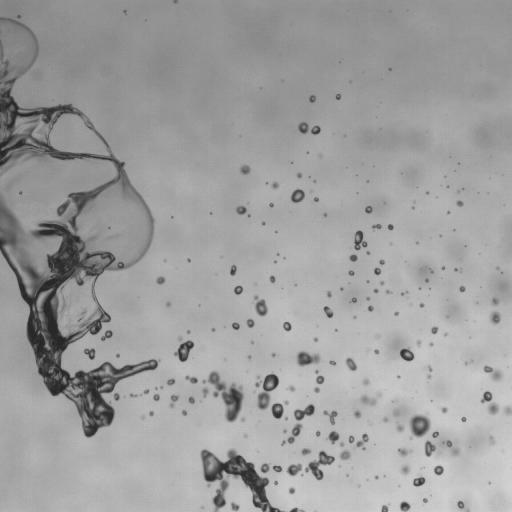droplet: (408, 412, 431, 439), (173, 336, 194, 362), (296, 350, 321, 366), (252, 294, 268, 316), (483, 365, 503, 382), (354, 230, 367, 250), (339, 441, 351, 460), (290, 188, 305, 203), (399, 346, 414, 361), (323, 409, 337, 425), (424, 440, 436, 457), (325, 430, 339, 444), (345, 357, 357, 371), (489, 310, 500, 324), (100, 330, 113, 341), (169, 394, 179, 408), (83, 348, 95, 359), (413, 475, 425, 486), (399, 464, 410, 475), (433, 464, 444, 475), (16, 98, 27, 109), (31, 98, 42, 109), (25, 155, 36, 166), (13, 157, 24, 168), (106, 166, 117, 177), (80, 181, 91, 192), (267, 189, 278, 200), (10, 205, 21, 216), (48, 212, 59, 223), (367, 212, 378, 223), (230, 274, 241, 285), (410, 291, 421, 302), (19, 303, 30, 314), (82, 332, 93, 343), (23, 344, 34, 355), (60, 348, 71, 359), (82, 360, 93, 371), (316, 360, 327, 371), (197, 369, 208, 380), (221, 375, 232, 386), (175, 377, 186, 388), (114, 380, 125, 391), (485, 380, 496, 391), (190, 383, 201, 394), (363, 385, 374, 396), (159, 388, 170, 399), (268, 390, 279, 401), (176, 397, 187, 408), (217, 402, 228, 413), (282, 405, 293, 416), (72, 414, 83, 425), (400, 437, 411, 448), (428, 454, 439, 465), (299, 455, 310, 466), (265, 469, 276, 480), (423, 469, 434, 480), (284, 474, 295, 485), (287, 474, 298, 485), (232, 475, 243, 486), (263, 485, 274, 496), (242, 486, 253, 497), (222, 490, 233, 501), (267, 495, 278, 506), (279, 500, 290, 511), (239, 164, 251, 174), (235, 205, 247, 215), (323, 306, 333, 318), (185, 374, 198, 383), (399, 501, 410, 511), (233, 285, 243, 295), (260, 463, 270, 473), (502, 405, 511, 415), (395, 422, 404, 432), (201, 387, 209, 398), (229, 264, 236, 276), (230, 502, 239, 511), (381, 502, 390, 511), (303, 193, 312, 202), (355, 248, 364, 257), (346, 260, 355, 269), (494, 304, 503, 313), (249, 310, 258, 319), (100, 321, 109, 330), (18, 323, 27, 332), (305, 346, 314, 355), (113, 359, 122, 368), (305, 362, 314, 371), (500, 367, 509, 376), (35, 374, 44, 383), (206, 382, 215, 391), (168, 384, 177, 393), (193, 390, 202, 399), (101, 392, 110, 401), (239, 398, 248, 407), (357, 402, 366, 411), (416, 407, 425, 416), (288, 417, 297, 426), (387, 419, 396, 428), (403, 425, 412, 434), (320, 428, 329, 437), (422, 431, 431, 440), (338, 432, 347, 441), (344, 442, 353, 451), (309, 452, 318, 461), (219, 453, 228, 462), (400, 455, 409, 464), (211, 479, 220, 488), (283, 321, 291, 331), (301, 447, 311, 455), (371, 224, 382, 231), (156, 276, 165, 284), (491, 297, 499, 306), (246, 318, 254, 327), (352, 410, 361, 418), (285, 384, 295, 391), (437, 406, 447, 413), (489, 435, 496, 445), (272, 465, 282, 472), (219, 505, 230, 511), (389, 505, 400, 511), (271, 181, 279, 189), (374, 267, 382, 275), (232, 322, 240, 330), (430, 326, 438, 334), (362, 378, 370, 386), (166, 378, 175, 385), (112, 392, 119, 401), (309, 94, 316, 102), (365, 205, 372, 213), (349, 254, 357, 261), (432, 430, 439, 438), (288, 486, 295, 494), (0, 175, 5, 186), (374, 333, 381, 340), (382, 416, 389, 423), (59, 98, 66, 105), (45, 101, 52, 108), (71, 101, 78, 108), (116, 154, 123, 161), (55, 158, 62, 165), (63, 158, 70, 165), (237, 159, 244, 166), (106, 160, 113, 167), (95, 179, 102, 186), (12, 184, 19, 191), (74, 185, 81, 192), (135, 185, 142, 192), (60, 195, 67, 202), (150, 209, 157, 216), (152, 221, 159, 228), (380, 221, 387, 228), (130, 263, 137, 270), (445, 264, 452, 271), (433, 265, 440, 272), (117, 268, 124, 275), (10, 276, 17, 283), (378, 285, 385, 292), (13, 287, 20, 294), (368, 291, 375, 298), (328, 304, 335, 311), (491, 304, 498, 311), (498, 313, 505, 320), (484, 316, 491, 323), (486, 320, 493, 327), (239, 321, 246, 328), (97, 329, 104, 336), (429, 333, 436, 340), (421, 339, 428, 346), (66, 342, 73, 349), (409, 345, 416, 352), (291, 355, 298, 362), (60, 362, 67, 369), (342, 364, 349, 371), (218, 375, 225, 382), (256, 386, 263, 393), (42, 387, 49, 394), (148, 388, 155, 395), (146, 391, 153, 398), (206, 391, 213, 398), (366, 391, 373, 398), (56, 392, 63, 399), (354, 392, 361, 399), (184, 402, 191, 409), (298, 403, 305, 410), (264, 406, 271, 413), (496, 408, 503, 415), (236, 410, 243, 417), (385, 410, 392, 417), (302, 414, 309, 421), (111, 415, 118, 422), (328, 424, 335, 431), (96, 426, 103, 433), (77, 428, 84, 435), (285, 430, 292, 437), (354, 434, 361, 441), (429, 437, 436, 444), (235, 448, 242, 455), (333, 456, 340, 463), (195, 457, 202, 464), (340, 458, 347, 465), (301, 460, 308, 467), (281, 463, 288, 470), (317, 463, 324, 470), (253, 465, 260, 472), (256, 470, 263, 477), (197, 471, 204, 478), (208, 502, 215, 509), (454, 267, 462, 273), (269, 275, 275, 283), (188, 396, 194, 404), (348, 435, 354, 443), (270, 352, 279, 357), (456, 200, 463, 206), (386, 224, 393, 230), (459, 285, 465, 292), (349, 297, 356, 303), (313, 386, 319, 393), (153, 394, 159, 401), (326, 290, 331, 298), (416, 339, 421, 347), (296, 172, 302, 178), (379, 259, 385, 265), (348, 270, 354, 276), (165, 301, 171, 307), (367, 305, 373, 311), (181, 409, 187, 415), (393, 410, 399, 416), (336, 93, 341, 100), (385, 289, 392, 294), (372, 349, 379, 354), (329, 360, 336, 365), (313, 336, 318, 342), (461, 416, 466, 422), (315, 430, 320, 436), (422, 498, 428, 503), (507, 400, 511, 407), (507, 413, 511, 420), (254, 507, 261, 511), (455, 507, 462, 511), (313, 197, 318, 202), (373, 288, 378, 293), (419, 302, 424, 307), (443, 332, 448, 337), (243, 433, 248, 438), (273, 480, 278, 485), (12, 15, 17, 20), (17, 17, 22, 22), (24, 21, 29, 26), (29, 25, 34, 30), (32, 29, 37, 34), (35, 34, 40, 39), (37, 40, 42, 45), (37, 49, 42, 54), (35, 56, 40, 61), (32, 61, 37, 66), (29, 65, 34, 70), (25, 69, 30, 74), (9, 91, 14, 96), (13, 97, 18, 102), (314, 97, 319, 102), (78, 106, 83, 111), (89, 117, 94, 122), (297, 118, 302, 123), (93, 124, 98, 129), (307, 124, 312, 129), (98, 129, 103, 134), (306, 129, 311, 134), (296, 130, 301, 135), (314, 133, 319, 138), (244, 160, 249, 165), (122, 164, 127, 169), (248, 169, 253, 174), (242, 173, 247, 178), (301, 173, 306, 178), (310, 174, 315, 179), (274, 177, 279, 182), (267, 180, 272, 185), (277, 184, 282, 189), (274, 187, 279, 192), (303, 189, 308, 194), (287, 190, 292, 195), (141, 194, 146, 199), (459, 196, 464, 201), (301, 197, 306, 202), (144, 199, 149, 204), (297, 200, 302, 205), (241, 201, 246, 206), (455, 205, 460, 210), (245, 208, 250, 213), (242, 212, 247, 217), (372, 219, 377, 224), (356, 225, 361, 230), (361, 236, 366, 241), (149, 242, 154, 247), (352, 249, 357, 254), (144, 251, 149, 256), (279, 251, 284, 256), (378, 254, 383, 259), (274, 255, 279, 260), (140, 256, 145, 261), (137, 259, 142, 264), (3, 261, 8, 266), (376, 263, 381, 268), (225, 267, 230, 272), (102, 269, 107, 274), (234, 269, 239, 274), (9, 270, 14, 275), (158, 271, 163, 276), (426, 273, 431, 278), (11, 274, 16, 279), (97, 274, 102, 279), (163, 274, 168, 279), (152, 275, 157, 280), (274, 275, 279, 280), (265, 278, 270, 283), (461, 281, 466, 286), (160, 282, 165, 287), (424, 282, 429, 287), (241, 283, 246, 288), (93, 285, 98, 290), (321, 291, 326, 296), (386, 293, 391, 298), (495, 294, 500, 299), (165, 296, 170, 301), (487, 298, 492, 303), (264, 300, 269, 305), (366, 300, 371, 305), (160, 301, 165, 306), (170, 301, 175, 306), (167, 305, 172, 310), (264, 312, 269, 317), (321, 312, 326, 317), (261, 314, 266, 319), (23, 316, 28, 321), (328, 316, 333, 321), (432, 321, 437, 326), (496, 321, 501, 326), (290, 322, 295, 327), (249, 326, 254, 331), (426, 327, 431, 332), (231, 328, 236, 333), (436, 328, 441, 333), (85, 331, 90, 336), (181, 337, 186, 342), (174, 343, 179, 348), (86, 344, 91, 349), (374, 344, 379, 349), (402, 344, 407, 349), (173, 346, 178, 351), (188, 348, 193, 353), (395, 348, 400, 353), (369, 350, 374, 355), (412, 350, 417, 355), (83, 353, 88, 358), (348, 353, 353, 358), (153, 355, 158, 360), (174, 355, 179, 360), (143, 356, 148, 361), (400, 358, 405, 363), (353, 359, 358, 364), (408, 359, 413, 364), (127, 360, 132, 365), (181, 360, 186, 365), (486, 361, 491, 366), (33, 366, 38, 371), (154, 366, 159, 371), (478, 366, 483, 371), (144, 369, 149, 374), (266, 369, 271, 374), (348, 369, 353, 374), (352, 369, 357, 374), (424, 369, 429, 374), (317, 370, 322, 375), (69, 372, 74, 377), (134, 372, 139, 377), (188, 372, 193, 377), (275, 372, 280, 377), (312, 373, 317, 378), (167, 374, 172, 379), (203, 374, 208, 379), (127, 375, 132, 380), (196, 376, 201, 381), (259, 376, 264, 381), (252, 377, 257, 382), (277, 377, 282, 382), (368, 377, 373, 382), (185, 379, 190, 384), (191, 382, 196, 387), (258, 382, 263, 387), (292, 382, 297, 387), (314, 382, 319, 387), (163, 383, 168, 388), (317, 383, 322, 388), (275, 384, 280, 389), (141, 385, 146, 390), (155, 389, 160, 394), (267, 390, 272, 395), (118, 393, 123, 398), (478, 393, 483, 398), (125, 394, 130, 399), (193, 396, 198, 401), (166, 397, 171, 402), (376, 397, 381, 402), (489, 398, 494, 403), (156, 399, 161, 404), (278, 399, 283, 404), (173, 400, 178, 405), (483, 400, 488, 405), (441, 402, 446, 407), (72, 406, 77, 411), (313, 407, 318, 412), (326, 408, 331, 413), (436, 408, 441, 413), (446, 408, 451, 413), (349, 409, 354, 414), (144, 411, 149, 416), (177, 411, 182, 416), (281, 411, 286, 416), (360, 411, 365, 416), (441, 412, 446, 417), (324, 414, 329, 419), (378, 414, 383, 419), (333, 415, 338, 420), (351, 415, 356, 420), (380, 421, 385, 426), (299, 427, 304, 432), (366, 432, 371, 437), (293, 435, 298, 440), (484, 436, 489, 441), (326, 438, 331, 443), (334, 439, 339, 444), (351, 440, 356, 445), (284, 441, 289, 446), (362, 441, 367, 446), (451, 442, 456, 447), (303, 443, 308, 448), (398, 443, 403, 448), (208, 447, 213, 452), (420, 448, 425, 453), (458, 448, 463, 453), (325, 450, 330, 455), (394, 450, 399, 455), (430, 450, 435, 455), (453, 454, 458, 459), (244, 457, 249, 462), (262, 458, 267, 463), (292, 460, 297, 465), (330, 461, 335, 466), (439, 461, 444, 466), (442, 466, 447, 471), (299, 468, 304, 473), (307, 469, 312, 474), (296, 470, 301, 475), (285, 472, 290, 477), (377, 472, 382, 477), (414, 473, 419, 478), (433, 473, 438, 478), (369, 475, 374, 480), (318, 478, 323, 483), (202, 479, 207, 484), (418, 484, 423, 489), (284, 488, 289, 493), (293, 489, 298, 494), (211, 491, 216, 496), (423, 493, 428, 498), (405, 498, 410, 503), (233, 499, 238, 504), (248, 501, 253, 506), (463, 503, 468, 508), (288, 504, 293, 509), (296, 504, 301, 509), (247, 354, 251, 360), (149, 410, 153, 416), (437, 449, 441, 455), (318, 153, 322, 158), (269, 202, 273, 207), (429, 268, 433, 273), (68, 293, 72, 298), (394, 311, 399, 315), (186, 329, 190, 334), (250, 340, 255, 344), (366, 348, 370, 353), (141, 415, 145, 420), (376, 507, 381, 511), (446, 211, 450, 215), (323, 213, 327, 217), (261, 221, 265, 225), (366, 250, 370, 254), (441, 266, 445, 270), (425, 278, 429, 282), (380, 281, 384, 285), (366, 296, 370, 300), (429, 342, 433, 346), (115, 353, 119, 357), (396, 374, 400, 378), (284, 416, 288, 420), (283, 429, 287, 433), (374, 475, 378, 479), (123, 10, 126, 15), (200, 508, 205, 511), (236, 508, 241, 511), (406, 508, 411, 511), (173, 0, 177, 3), (17, 15, 21, 18), (19, 190, 22, 194), (425, 191, 429, 194), (247, 213, 250, 217), (163, 258, 166, 262), (187, 258, 190, 262), (273, 260, 277, 263), (496, 266, 499, 270), (340, 287, 343, 291), (418, 286, 421, 290), (353, 315, 356, 319), (211, 328, 215, 331), (252, 390, 256, 393), (337, 464, 341, 467), (420, 466, 424, 469), (357, 483, 360, 487), (200, 506, 204, 509), (177, 0, 182, 2), (0, 12, 2, 17), (0, 251, 2, 256), (306, 151, 309, 154), (313, 179, 316, 182), (265, 181, 268, 184), (446, 185, 449, 188), (411, 206, 414, 209), (274, 230, 277, 233), (439, 234, 442, 237), (389, 242, 392, 245), (276, 252, 279, 255), (366, 280, 369, 283), (253, 282, 256, 285), (294, 283, 297, 286), (475, 301, 478, 304), (446, 315, 449, 318), (334, 328, 337, 331), (160, 386, 163, 389), (300, 473, 303, 476), (488, 481, 491, 484), (172, 2, 175, 5), (123, 6, 126, 9), (125, 10, 128, 13), (17, 11, 20, 14), (121, 12, 124, 15), (388, 64, 391, 67), (391, 67, 394, 70), (388, 70, 391, 73), (336, 90, 339, 93), (312, 92, 315, 95), (332, 95, 335, 98), (339, 97, 342, 100), (306, 98, 309, 101), (334, 98, 337, 101), (311, 101, 314, 104), (319, 126, 322, 129), (103, 136, 106, 139), (303, 151, 306, 154), (306, 153, 309, 156), (289, 158, 292, 161), (290, 163, 293, 166), (307, 172, 310, 175), (294, 175, 297, 178), (365, 176, 368, 179), (264, 178, 267, 181), (368, 180, 371, 183), (312, 182, 315, 185), (444, 182, 447, 185), (448, 183, 451, 186), (298, 186, 301, 189), (445, 187, 448, 190), (355, 188, 358, 191), (424, 188, 427, 191), (459, 188, 462, 191), (16, 189, 19, 192), (21, 191, 24, 194), (428, 191, 431, 194), (424, 193, 427, 196), (315, 194, 318, 197), (318, 197, 321, 200), (266, 201, 269, 204), (272, 201, 275, 204), (314, 201, 317, 204), (412, 203, 415, 206), (370, 204, 373, 207), (267, 205, 270, 208), (408, 206, 411, 209), (414, 206, 417, 209), (371, 207, 374, 210), (208, 208, 211, 211), (448, 208, 451, 211), (211, 210, 214, 213), (362, 210, 365, 213), (443, 210, 446, 213), (170, 212, 173, 215), (206, 212, 209, 215), (326, 212, 329, 215), (365, 212, 368, 215), (447, 213, 450, 216), (167, 215, 170, 218), (173, 215, 176, 218), (321, 215, 324, 218), (248, 216, 251, 219), (170, 218, 173, 221), (264, 221, 267, 224), (389, 221, 392, 224), (260, 224, 263, 227), (392, 226, 395, 229), (274, 227, 277, 230), (388, 229, 391, 232), (453, 230, 456, 233), (439, 231, 442, 234), (273, 232, 276, 235), (366, 241, 369, 244), (412, 241, 415, 244), (273, 252, 276, 255), (190, 258, 193, 261), (383, 258, 386, 261), (184, 259, 187, 262), (272, 262, 275, 265), (439, 264, 442, 267), (444, 265, 447, 268), (451, 266, 454, 269), (456, 266, 459, 269), (431, 267, 434, 270), (498, 268, 501, 271), (427, 269, 430, 272), (371, 270, 374, 273), (455, 270, 458, 273), (345, 271, 348, 274), (353, 272, 356, 275), (373, 273, 376, 276), (378, 273, 381, 276), (347, 274, 350, 277), (383, 279, 386, 282), (363, 280, 366, 283), (422, 280, 425, 283), (94, 281, 97, 284), (234, 283, 237, 286), (340, 284, 343, 287), (231, 286, 234, 289), (327, 287, 330, 290), (420, 287, 423, 290), (430, 287, 433, 290), (456, 287, 459, 290), (464, 287, 467, 290), (337, 288, 340, 291), (388, 288, 391, 291), (407, 288, 410, 291), (341, 289, 344, 292), (402, 289, 405, 292), (231, 290, 234, 293), (240, 291, 243, 294), (330, 291, 333, 294), (376, 291, 379, 294), (460, 291, 463, 294), (397, 292, 400, 295), (403, 293, 406, 296), (95, 294, 98, 297), (353, 294, 356, 297), (400, 295, 403, 298), (489, 296, 492, 299), (348, 297, 351, 300), (356, 298, 359, 301), (421, 300, 424, 303), (350, 301, 353, 304), (354, 301, 357, 304), (323, 303, 326, 306), (416, 303, 419, 306), (365, 304, 368, 307), (420, 306, 423, 309), (394, 308, 397, 311), (104, 309, 107, 312), (371, 309, 374, 312), (367, 310, 370, 313), (352, 312, 355, 315), (397, 312, 400, 315), (331, 314, 334, 317), (349, 315, 352, 318), (356, 315, 359, 318), (394, 315, 397, 318), (245, 316, 248, 319), (284, 318, 287, 321), (352, 318, 355, 321), (234, 319, 237, 322), (288, 320, 291, 323), (280, 321, 283, 324), (211, 324, 214, 327), (252, 324, 255, 327), (229, 325, 232, 328), (187, 326, 190, 329), (336, 326, 339, 329), (214, 327, 217, 330), (110, 328, 113, 331), (208, 328, 211, 331), (331, 328, 334, 331), (283, 329, 286, 332), (288, 329, 291, 332), (213, 330, 216, 333), (334, 331, 337, 334), (315, 334, 318, 337), (445, 335, 448, 338), (317, 338, 320, 341), (311, 339, 314, 342), (247, 340, 250, 343), (253, 340, 256, 343), (252, 343, 255, 346), (432, 344, 435, 347), (372, 346, 375, 349), (271, 349, 274, 352), (378, 349, 381, 352), (115, 350, 118, 353), (245, 352, 248, 355), (374, 353, 377, 356), (268, 354, 271, 357), (413, 354, 416, 357), (250, 356, 253, 359), (245, 357, 248, 360), (330, 357, 333, 360), (333, 358, 336, 361), (466, 358, 469, 361), (461, 362, 464, 365), (466, 363, 469, 366), (330, 364, 333, 367), (430, 365, 433, 368), (429, 371, 432, 374), (184, 372, 187, 375), (398, 372, 401, 375), (393, 375, 396, 378), (399, 376, 402, 379), (323, 377, 326, 380), (427, 378, 430, 381), (174, 379, 177, 382), (171, 383, 174, 386), (156, 385, 159, 388), (140, 389, 143, 392), (287, 389, 290, 392), (488, 389, 491, 392), (132, 391, 135, 394), (131, 396, 134, 399), (158, 396, 161, 399), (429, 396, 432, 399), (185, 397, 188, 400), (152, 399, 155, 402), (427, 400, 430, 403), (169, 407, 172, 410), (184, 408, 187, 411), (335, 409, 338, 412), (186, 411, 189, 414), (152, 413, 155, 416), (462, 413, 465, 416), (458, 418, 461, 421), (465, 418, 468, 421), (462, 421, 465, 424), (280, 428, 283, 431), (362, 430, 365, 433), (438, 431, 441, 434), (312, 432, 315, 435), (491, 433, 494, 436), (436, 435, 439, 438), (450, 439, 453, 442), (279, 440, 282, 443), (446, 446, 449, 449), (361, 449, 364, 452), (275, 462, 278, 465), (345, 470, 348, 473), (373, 472, 376, 475), (440, 472, 443, 475), (342, 473, 345, 476), (348, 474, 351, 477), (375, 478, 378, 481), (410, 479, 413, 482), (277, 480, 280, 483), (485, 482, 488, 485), (490, 482, 493, 485), (420, 500, 423, 503), (462, 500, 465, 503), (423, 502, 426, 505), (455, 505, 458, 508), (155, 386, 157, 390), (388, 68, 391, 70), (344, 134, 346, 137), (366, 180, 369, 182), (457, 190, 459, 193), (413, 200, 415, 203), (209, 212, 212, 214), (416, 241, 418, 244), (366, 478, 368, 481), (387, 509, 390, 511), (458, 162, 460, 164), (444, 175, 446, 177), (308, 176, 310, 178), (462, 188, 464, 190), (171, 216, 173, 218), (453, 229, 455, 231), (283, 257, 285, 259), (198, 304, 200, 306), (306, 395, 308, 397), (199, 400, 201, 402), (430, 400, 432, 402), (346, 474, 348, 476), (383, 475, 385, 477), (398, 485, 400, 487), (170, 0, 173, 1), (356, 192, 358, 193), (487, 192, 489, 193), (383, 202, 385, 203), (464, 245, 466, 246), (220, 256, 222, 257), (500, 272, 502, 273)
ligament: (202, 370, 245, 423), (286, 450, 334, 480), (281, 404, 315, 446), (480, 390, 500, 415), (359, 391, 382, 405), (298, 122, 321, 135), (442, 440, 459, 456), (129, 388, 150, 397), (314, 369, 324, 384), (457, 500, 470, 511), (397, 448, 412, 456), (289, 507, 305, 511), (464, 359, 473, 365), (400, 290, 409, 295), (391, 400, 397, 402), (314, 510, 317, 511)
